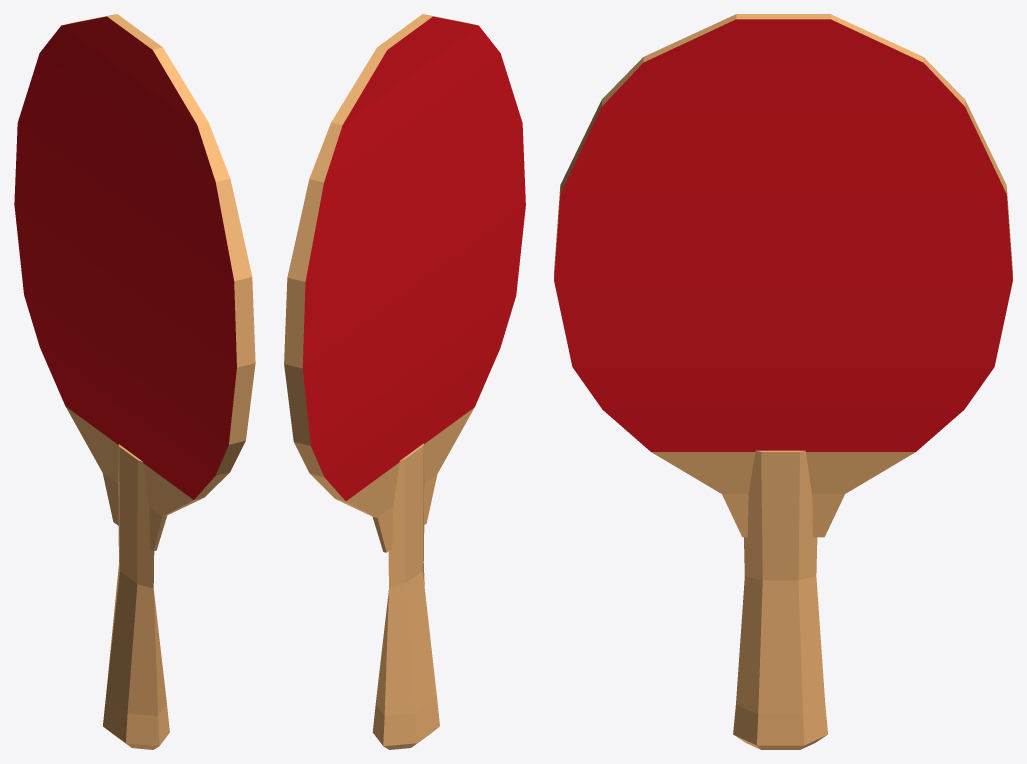
File: pingpongpaddle-red.fbx
The picture shows the model from 3 angles, left to right: view 1: azimuth 30°, elevation 25°; view 2: azimuth 150°, elevation 25°; view 3: azimuth 270°, elevation 25°; orthographic projection. The views are drawn at different scales.
Visible parts, largest first — view 1: Cube; view 2: Cube; view 3: Cube.
Part boxes in pixels (bbox=[...]): Cube: bbox=[14, 14, 255, 749]; Cube: bbox=[284, 14, 525, 749]; Cube: bbox=[554, 14, 1012, 749].
Size of the model in its own units: 40.78 by 623 by 357.
